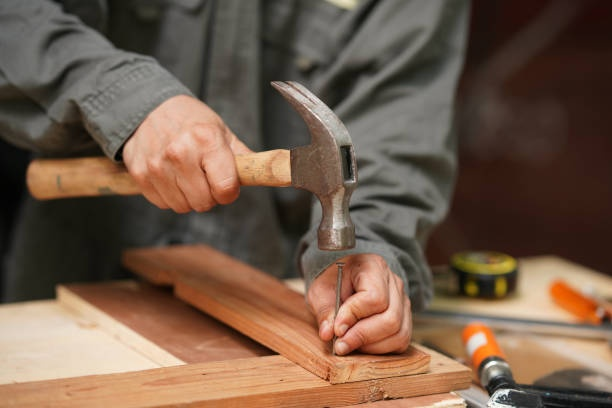hammer: (26, 79, 357, 251)
